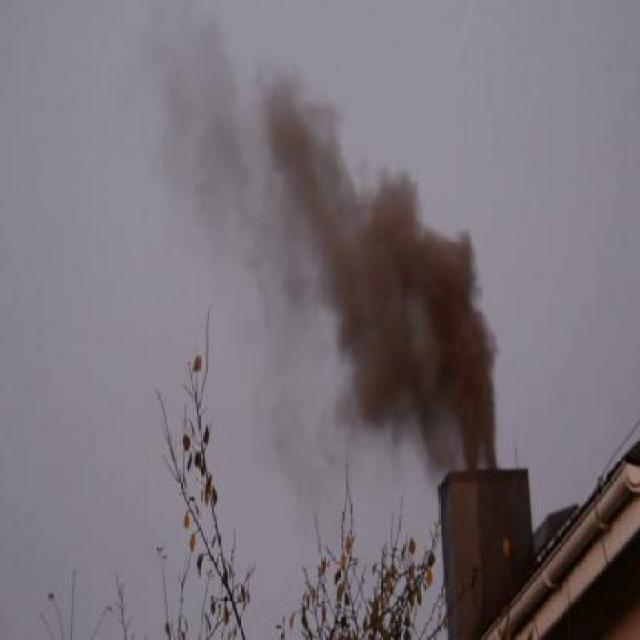smoke: (229, 88, 542, 467)
